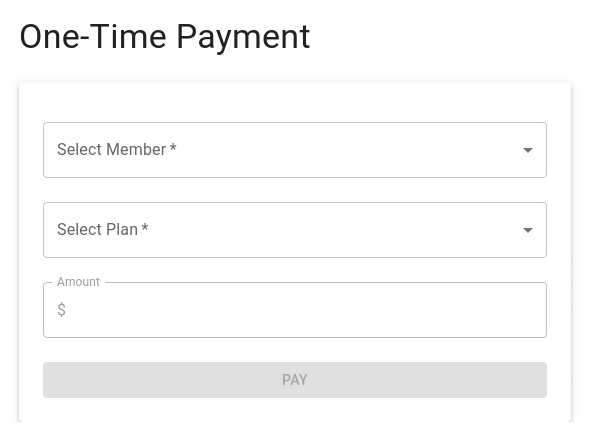
Test: PaymentPage › displays member select dropdown with correct options
Check: the heading "One-Time Payment" is shown, box [19,16,311,56]
Click the dropdown named "select member" next to "Select Member": point(295, 150) [43,122,547,178]
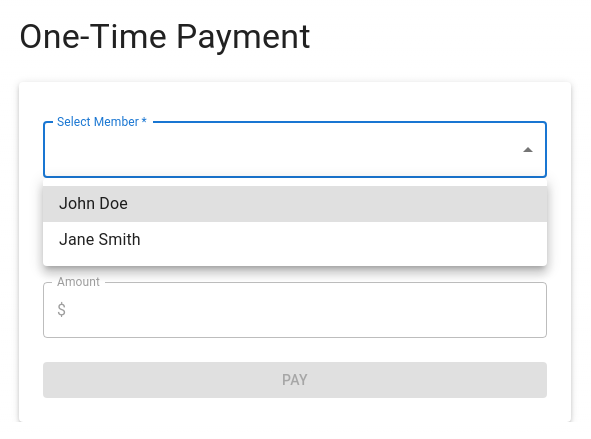
Check: the option "John Doe" is shown, box [43,186,547,222]
Check: the option "Jane Smith" is shown, box [59,230,141,249]
